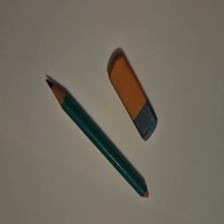eraser: (109, 54, 159, 143)
pencil: (47, 80, 150, 200)
